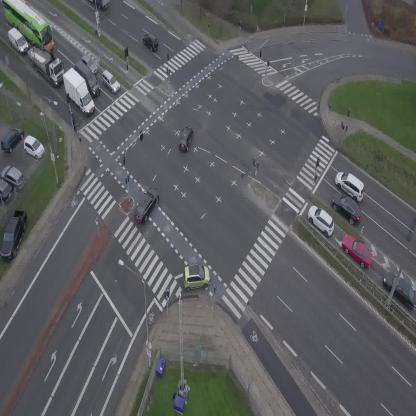bicycle: (71, 115, 79, 132)
car: (337, 229, 379, 273), (326, 188, 368, 228), (330, 167, 371, 203), (129, 185, 164, 227), (303, 202, 341, 239), (180, 262, 213, 292), (97, 68, 124, 96), (174, 123, 198, 154), (79, 52, 101, 75), (139, 31, 161, 53)
lorry: (17, 34, 73, 89), (58, 64, 97, 119), (72, 58, 104, 99), (3, 26, 33, 56), (87, 0, 110, 10)
